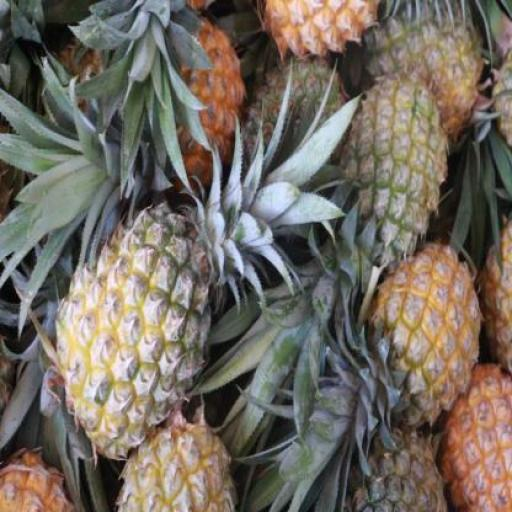------------------------------: (53, 212, 205, 460), (340, 78, 440, 273), (374, 0, 494, 144), (116, 408, 238, 510)
Pineapple - v8 v1: (367, 244, 474, 428)
